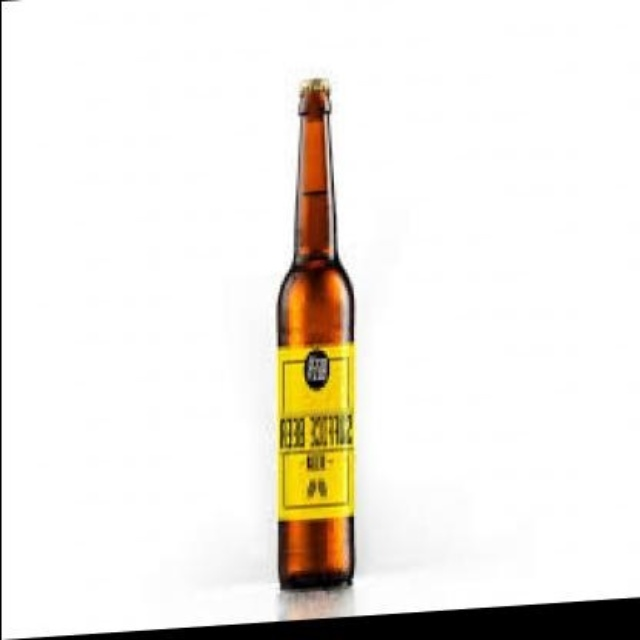trash: (277, 78, 352, 586)
